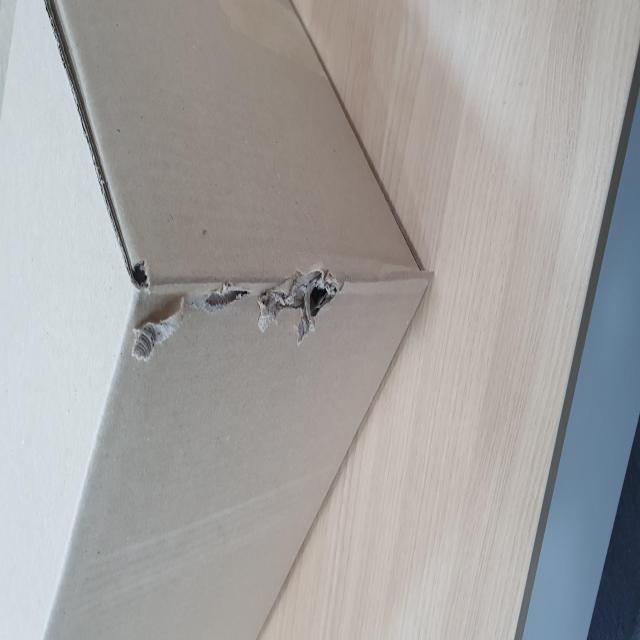damaged: (176, 522, 207, 609)
